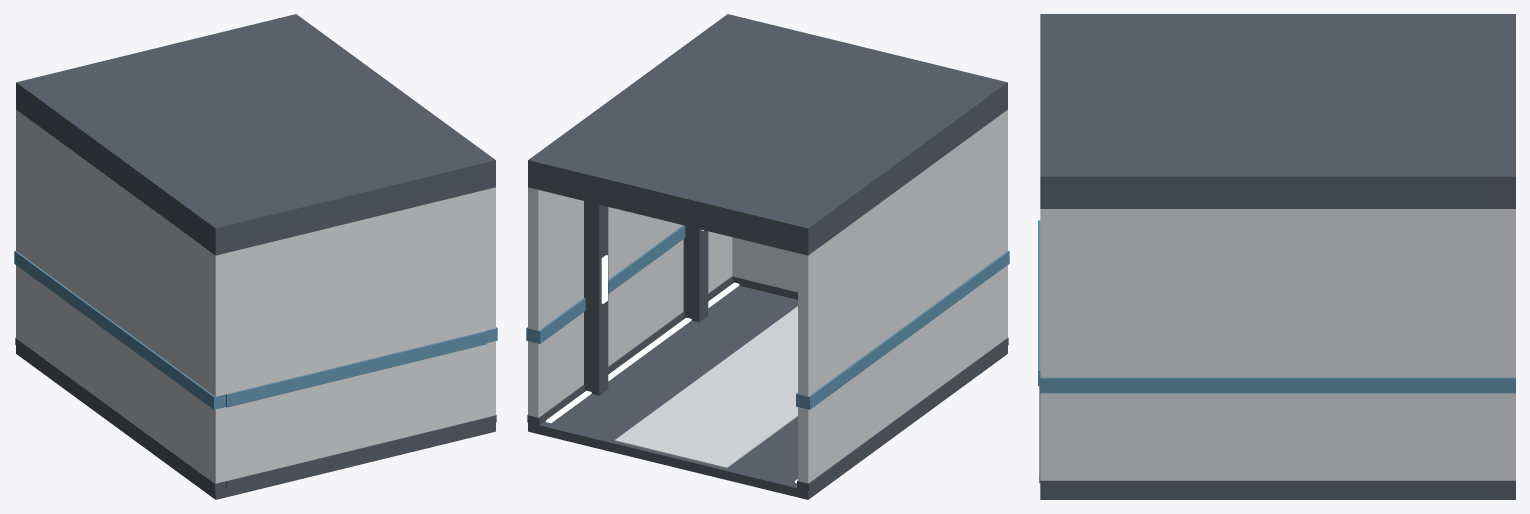
File: spaceship-deck-kit-corridor-end-a99b30c6__12557.glb
3 views of the same model, side by side, from view 1: azimuth 30°, elevation 25°; view 2: azimuth 150°, elevation 25°; view 3: azimuth 270°, elevation 25° (orthographic). The views are drawn at different scales.
Parts seen in each view (by area): view 1: corridor-end; view 2: corridor-end; view 3: corridor-end.
Boxes of the visible parts, box(x1,y1,x2,y2) form: corridor-end: box(14, 14, 497, 499); corridor-end: box(526, 14, 1009, 499); corridor-end: box(1038, 14, 1515, 499).
Size of the model in its own units: 3.28 by 3 by 4.02.
